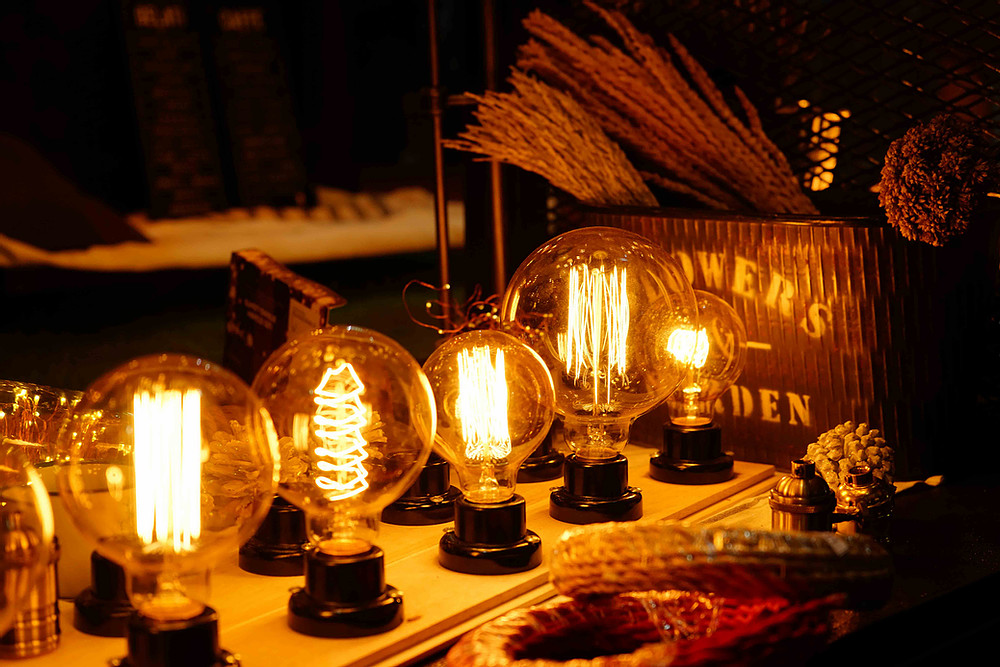Light_bulb: (51, 344, 288, 657), (492, 217, 705, 481), (236, 321, 441, 592), (412, 326, 578, 531), (617, 281, 760, 460)
